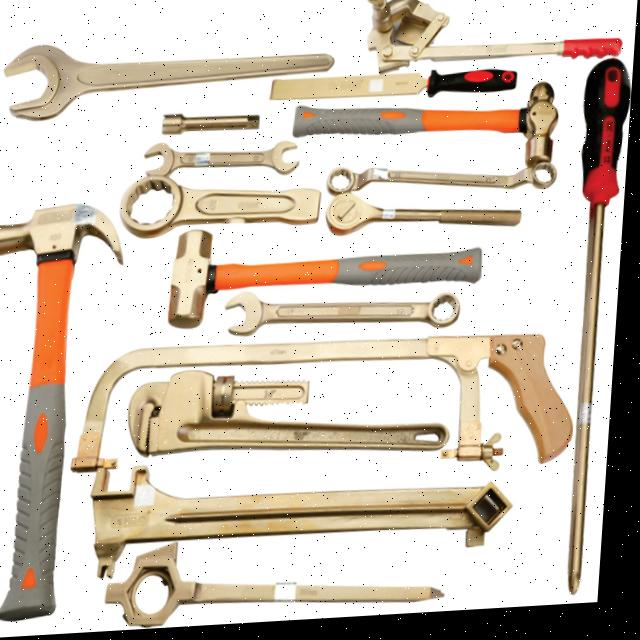Screwdriver: (576, 66, 633, 601)
